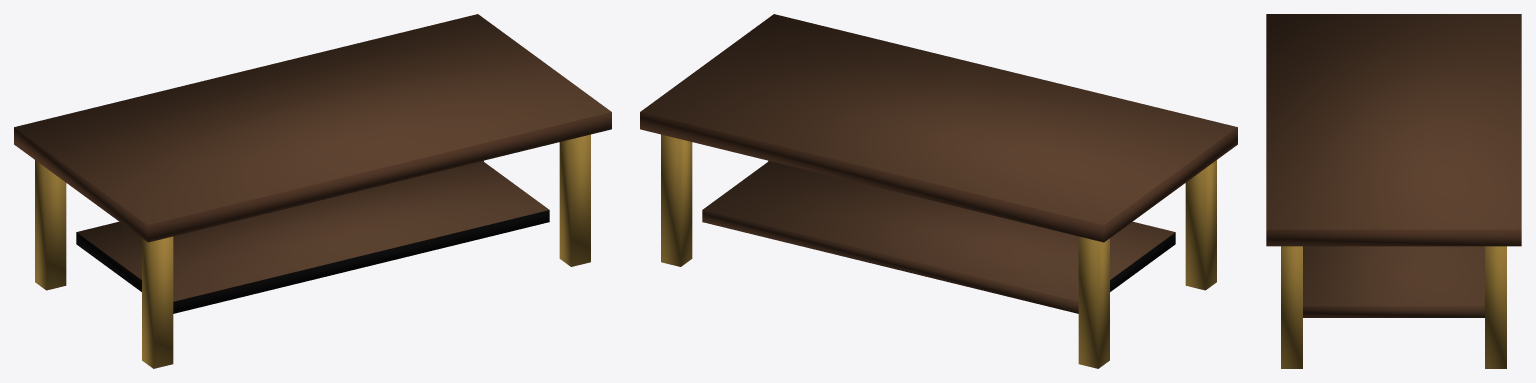
File: Meja_Tamu.fbx
The picture shows the model from 3 angles, left to right: view 1: azimuth 30°, elevation 25°; view 2: azimuth 150°, elevation 25°; view 3: azimuth 270°, elevation 25°; orthographic projection. The views are drawn at different scales.
Visible parts, largest first — view 1: Meja_Tamu; view 2: Meja_Tamu; view 3: Meja_Tamu.
Boxes of the visible parts, <box> form: Meja_Tamu: <box>14,14,611,368</box>; Meja_Tamu: <box>640,14,1237,368</box>; Meja_Tamu: <box>1266,14,1521,368</box>.
Size of the model in its own units: 1.4 by 0.44 by 0.7.
